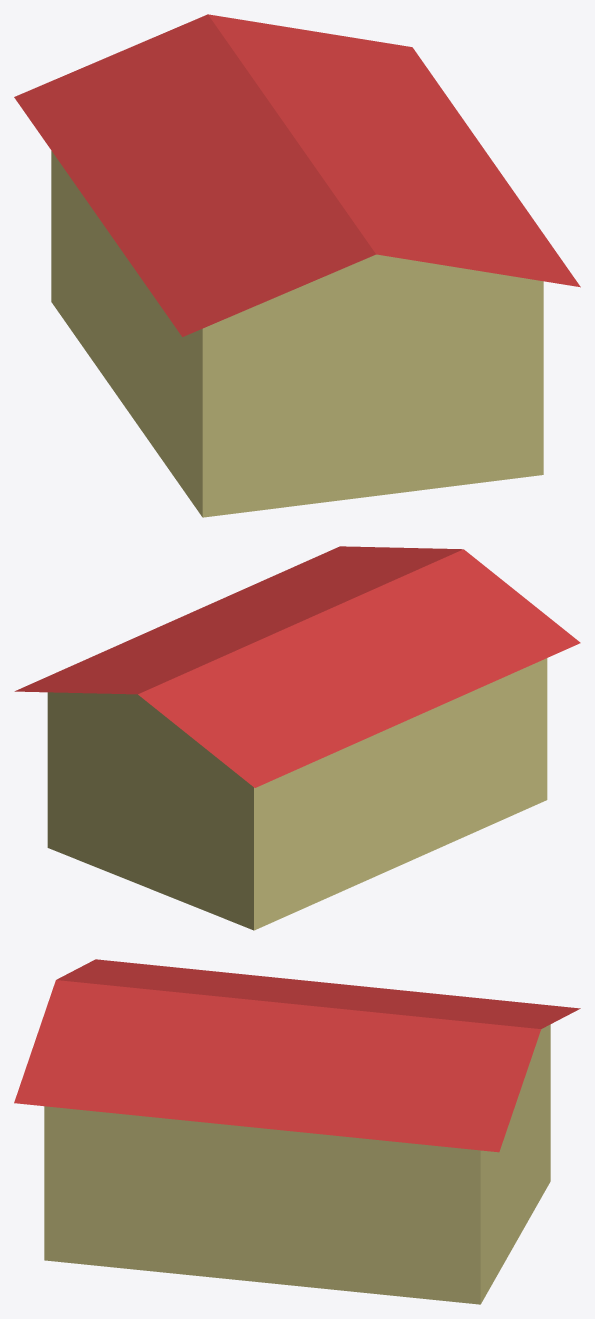
3 renders of one model, top to bottom at view 1: azimuth 30°, elevation 25°; view 2: azimuth 150°, elevation 25°; view 3: azimuth 270°, elevation 25°, orthographic. The views are drawn at different scales.
Bounding box in the file's own units: 18.12 × 22.49 × 9.39.
